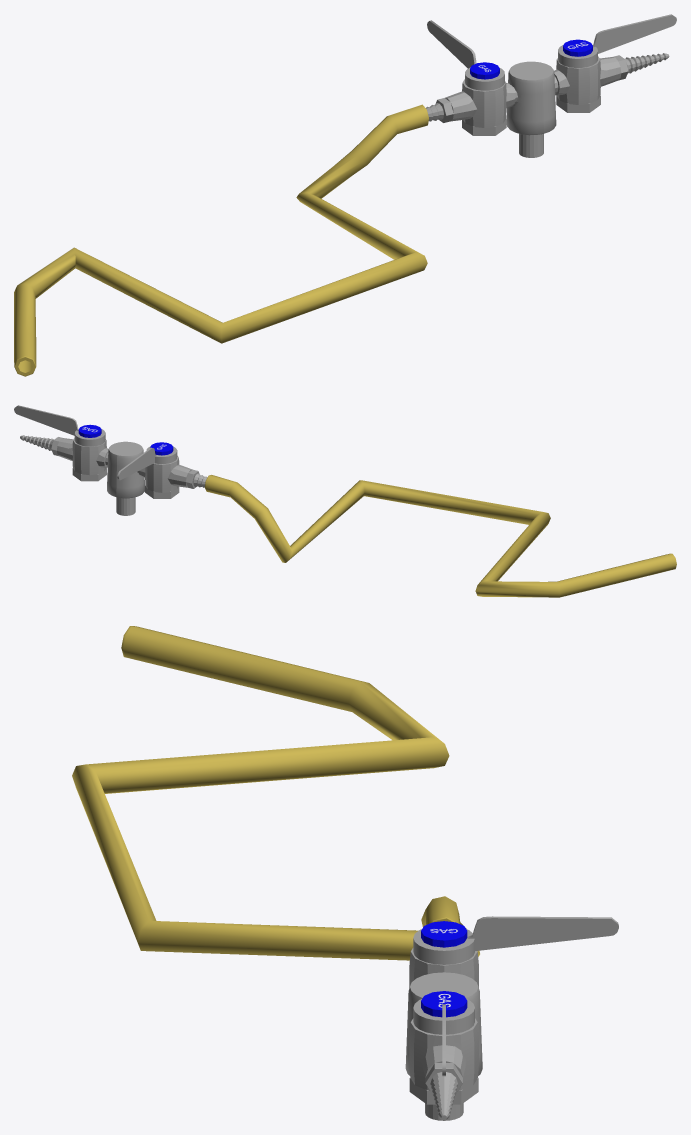
Rendered from gas_valve_with_hose.fbx.
3 views of the same model, one above another, from view 1: azimuth 30°, elevation 25°; view 2: azimuth 150°, elevation 25°; view 3: azimuth 270°, elevation 25° (orthographic). The views are drawn at different scales.
Parts seen in each view (by area): view 1: extrudedSurface1, polySurface7 (×2), base1, polySurface6 (×2); view 2: extrudedSurface1, polySurface7 (×2), base1, polySurface6 (×2); view 3: extrudedSurface1, polySurface6 (×2), polySurface7 (×2), base1, pCylinder8 (×2), revolvedSurface1.
Part boxes in pixels (x1,y1,x2,y2): extrudedSurface1: (14, 104, 428, 376); polySurface7 (×2): (445, 56, 621, 127); base1: (506, 61, 556, 157); polySurface6 (×2): (427, 14, 676, 90); extrudedSurface1: (204, 475, 676, 597); polySurface7 (×2): (57, 438, 192, 492); base1: (107, 441, 144, 515); polySurface6 (×2): (14, 405, 177, 480); extrudedSurface1: (72, 626, 479, 960); polySurface6 (×2): (413, 916, 618, 1076); polySurface7 (×2): (409, 948, 478, 1090); base1: (405, 972, 482, 1120); pCylinder8 (×2): (421, 921, 467, 1017); revolvedSurface1: (430, 1072, 457, 1119).
Bounding box in the file's own units: 43.79 × 6.1 × 17.7.
3 materials, 1 textured.
